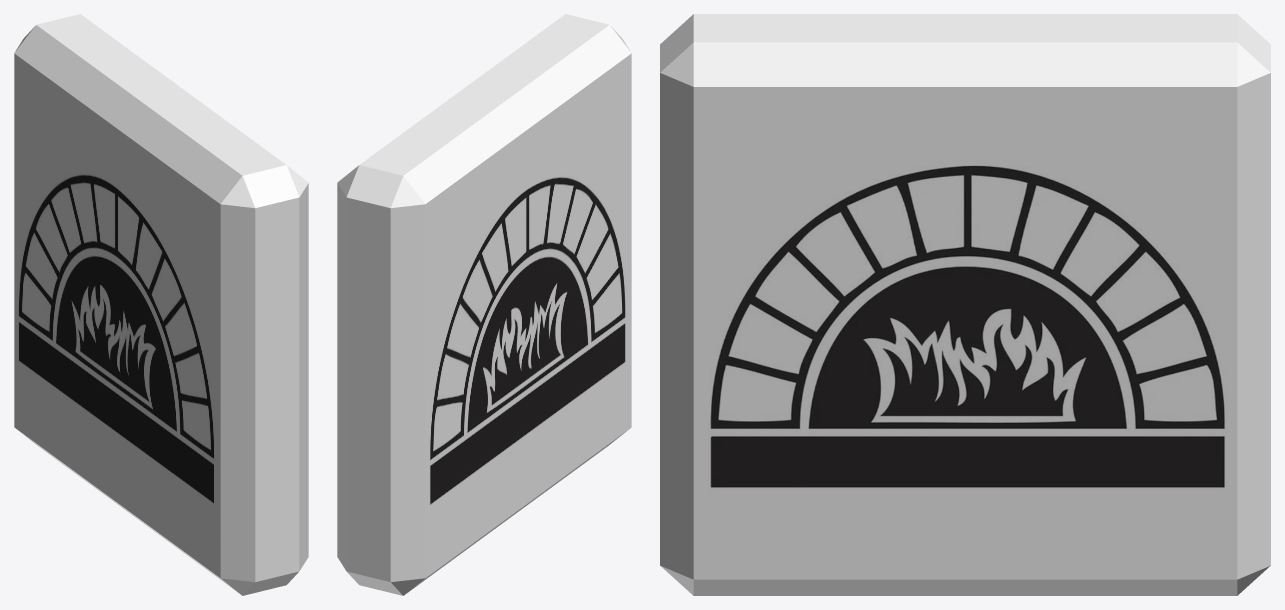
Rendered from Oven.obj.
3 renders of one model, left to right at view 1: azimuth 30°, elevation 25°; view 2: azimuth 150°, elevation 25°; view 3: azimuth 270°, elevation 25°, orthographic. The views are drawn at different scales.
Parts seen in each view (by area): view 1: pCube4; view 2: pCube4; view 3: pCube4.
Boxes of the visible parts, box(x1,y1,x2,y2) form: pCube4: box(14, 14, 308, 595); pCube4: box(337, 14, 631, 595); pCube4: box(660, 14, 1270, 595).
Bounding box in the file's own units: 0.641 × 2.91 × 2.91.
Materials: 1 (1 with a texture image).
